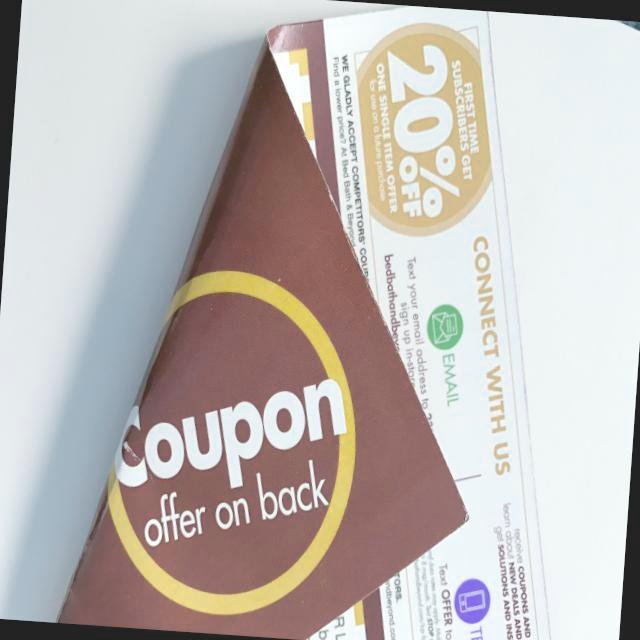paper: (55, 0, 596, 640)
